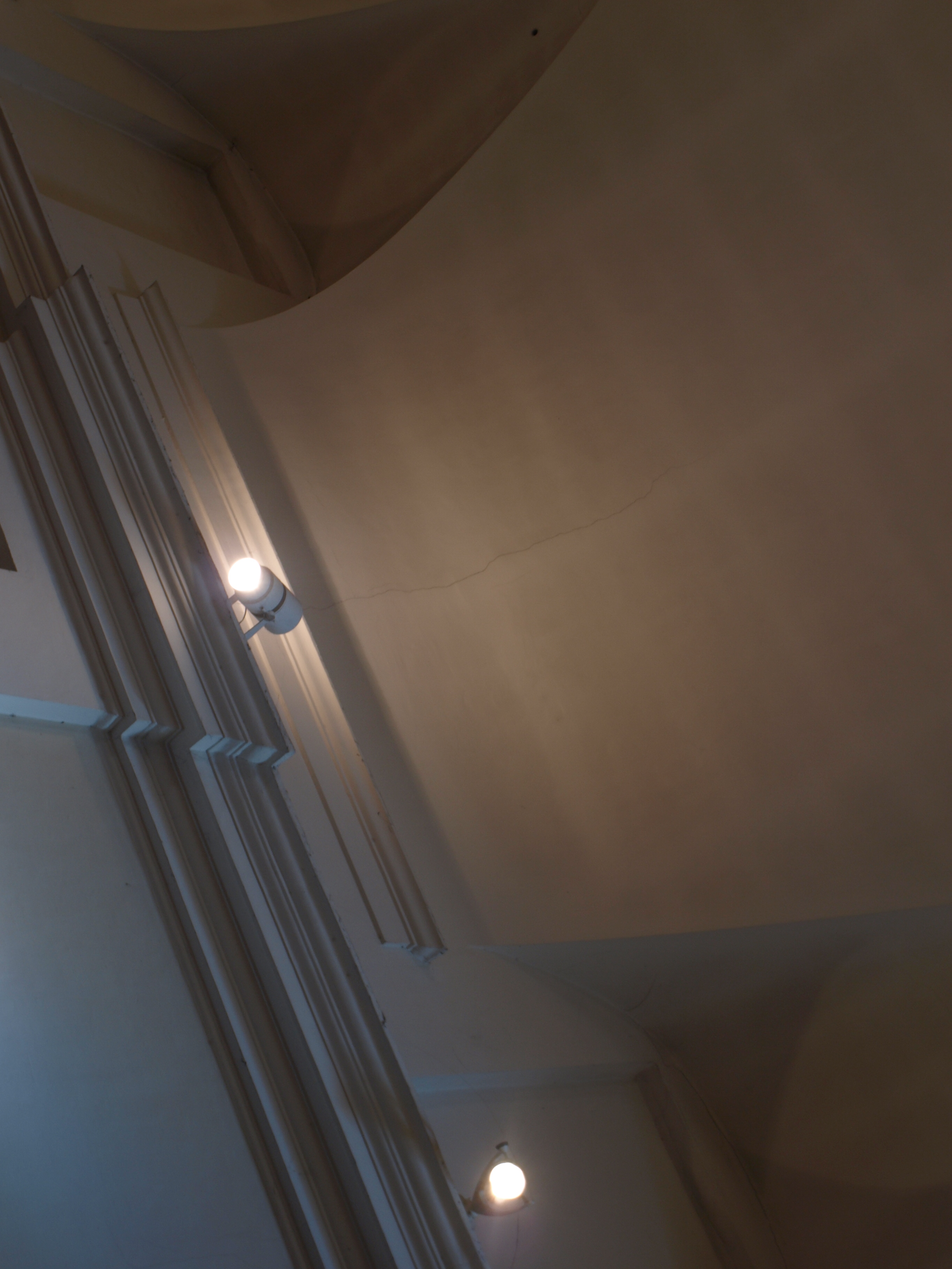Crack: (284, 450, 756, 660)
